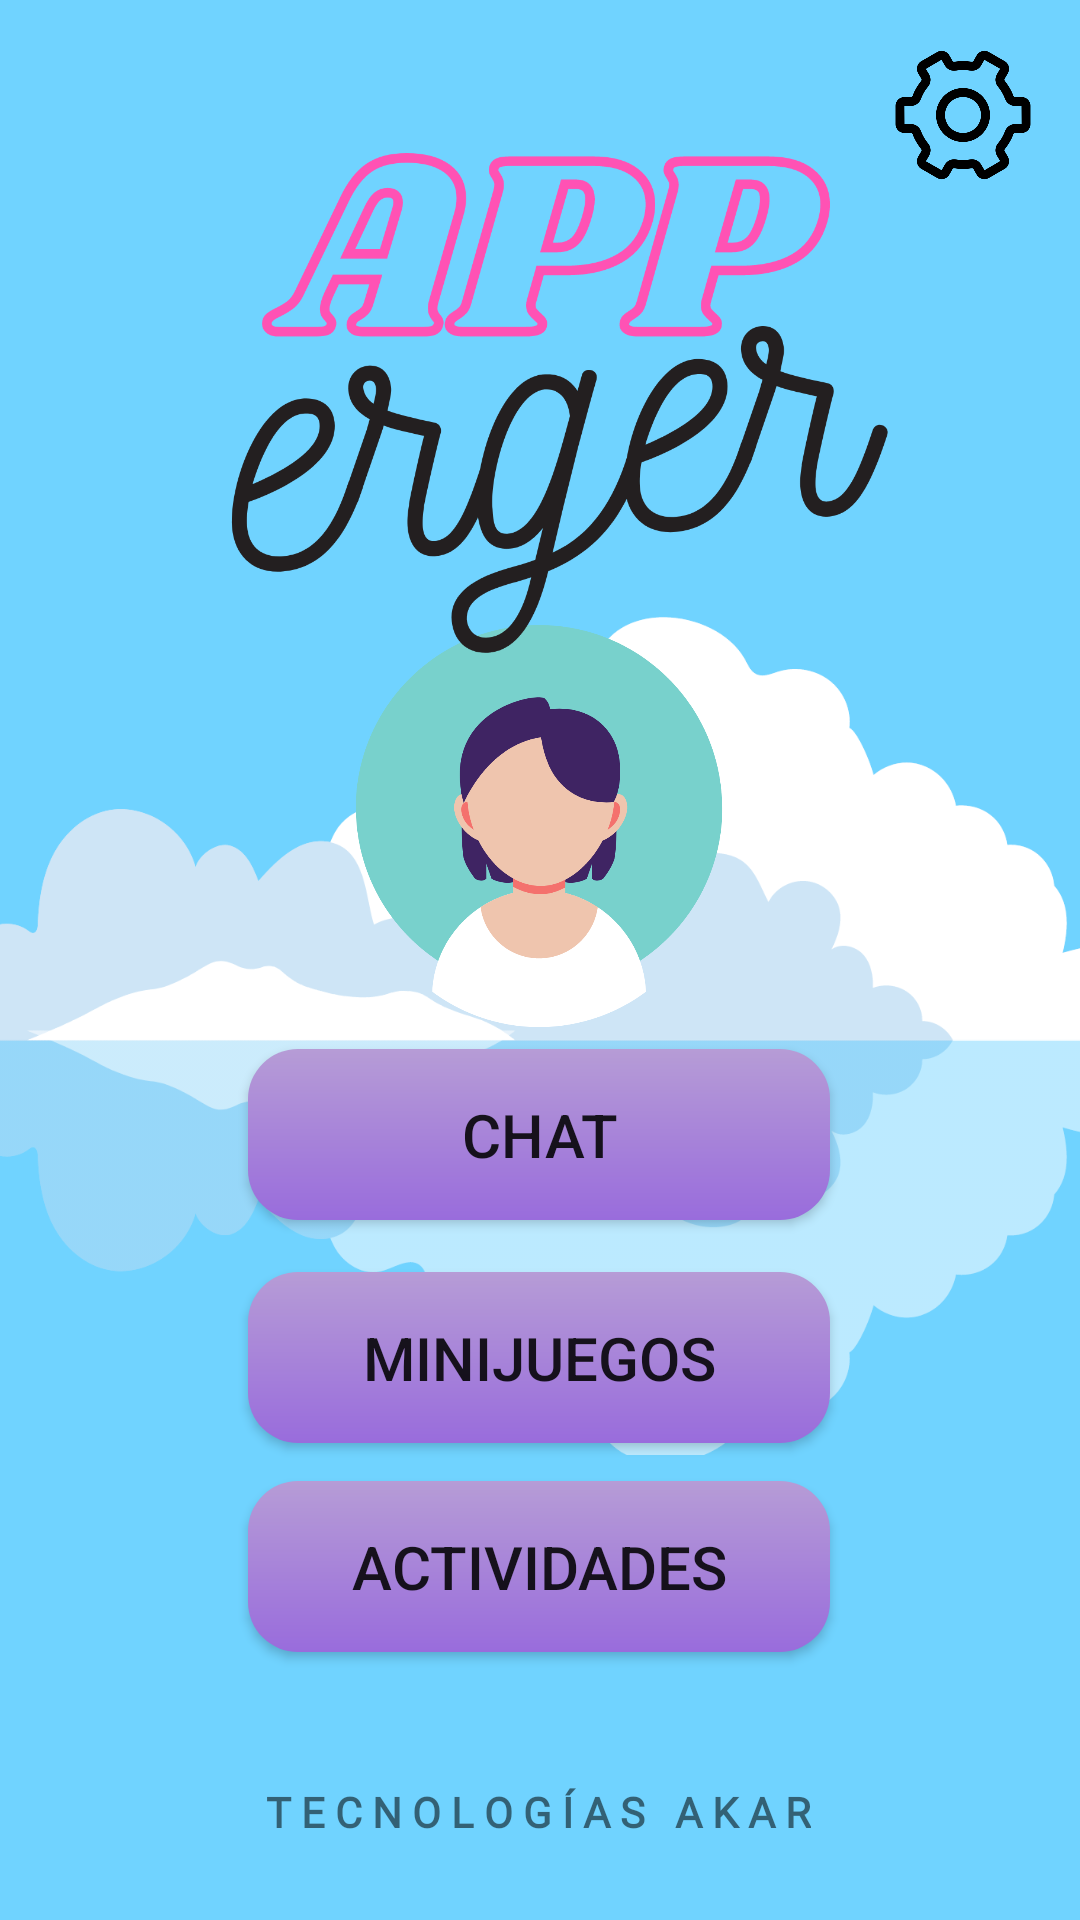

Screen size 1080w x 1920h. Icon name, then its box in pixels as bbox=(x1, y1, x2, y2):
engrane: bbox=(895, 51, 1031, 179)
